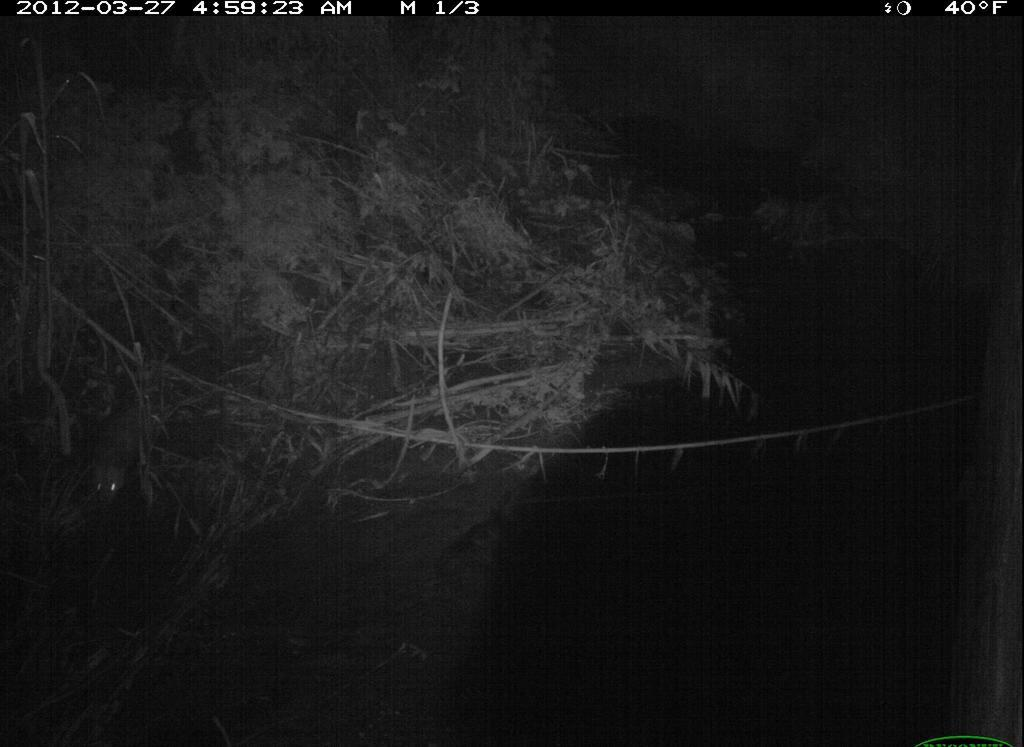opossum: (82, 388, 177, 515)
